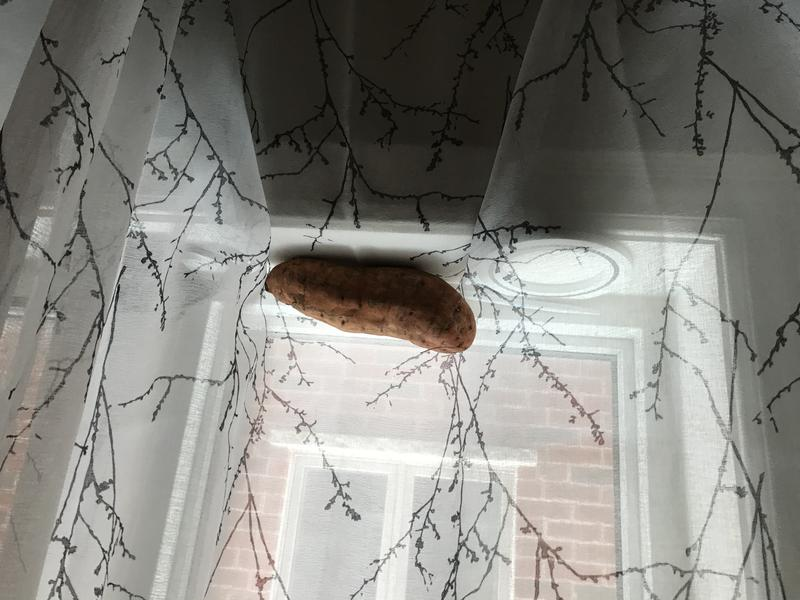sweet_potato: (259, 248, 484, 366)
